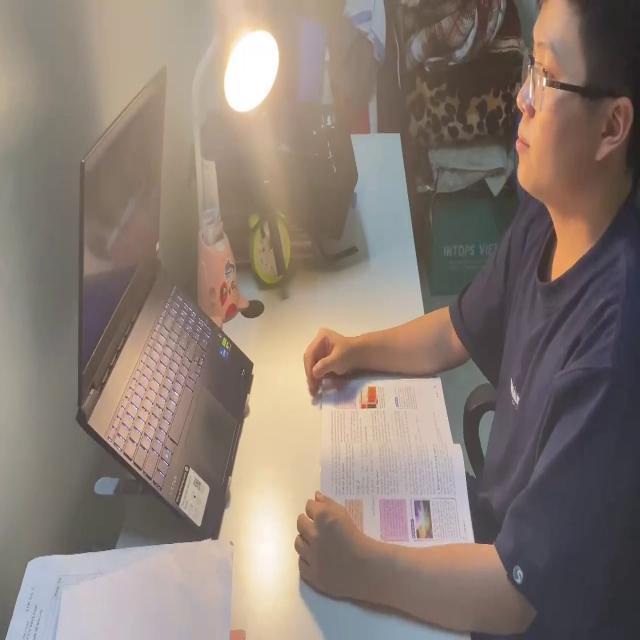book: (315, 353, 471, 564), (6, 544, 246, 640)
laptop: (73, 60, 255, 538)
student: (289, 0, 640, 640)
